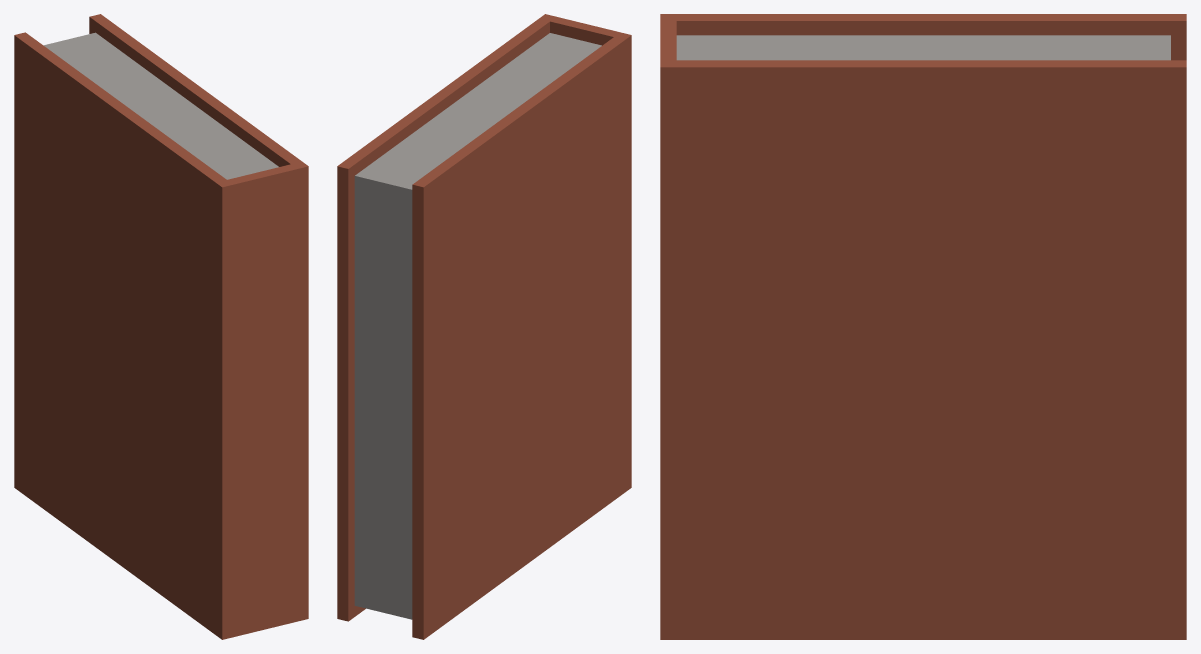
The model's file is SM_Props_Interior_Generic_Office_File_Small_02.fbx.
The picture shows the model from 3 angles, left to right: view 1: azimuth 30°, elevation 25°; view 2: azimuth 150°, elevation 25°; view 3: azimuth 270°, elevation 25°; orthographic projection. The views are drawn at different scales.
Parts seen in each view (by area): view 1: SM_Props_Interior_Generic_Office_File_Small_02; view 2: SM_Props_Interior_Generic_Office_File_Small_02; view 3: SM_Props_Interior_Generic_Office_File_Small_02.
Part boxes in pixels (left/top/right/bottom): SM_Props_Interior_Generic_Office_File_Small_02: left=14, top=14, right=308, bottom=639; SM_Props_Interior_Generic_Office_File_Small_02: left=337, top=14, right=631, bottom=639; SM_Props_Interior_Generic_Office_File_Small_02: left=660, top=14, right=1186, bottom=639.
Size of the model in its own units: 7.2 by 36 by 30.
